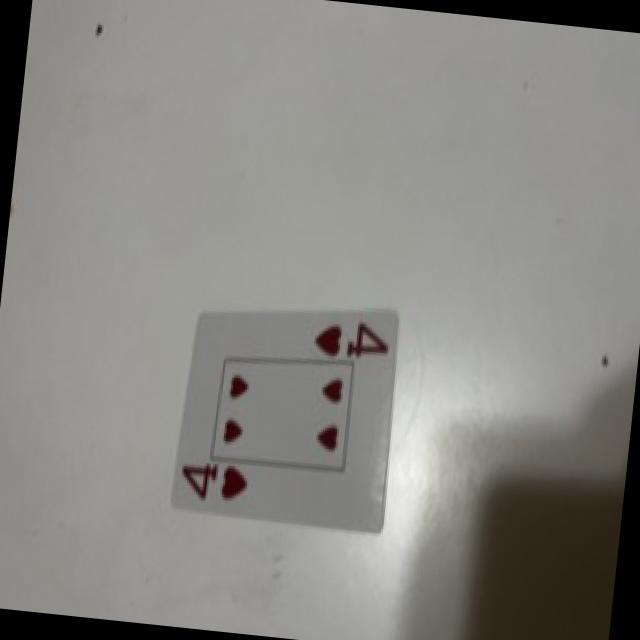4 of hearts: (172, 311, 398, 531)
